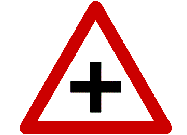Fork_road: (16, 1, 175, 135)
